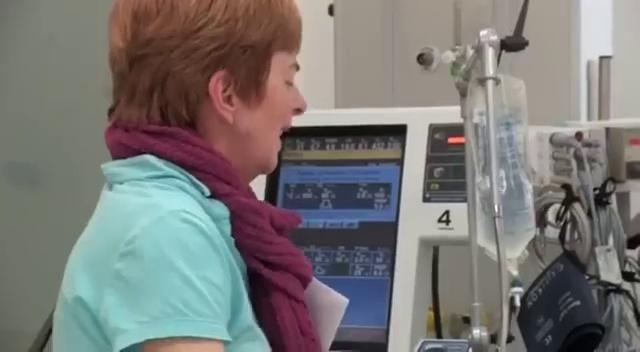others: (49, 0, 327, 351)
